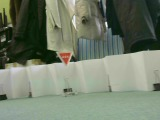stop: (54, 51, 74, 68)
